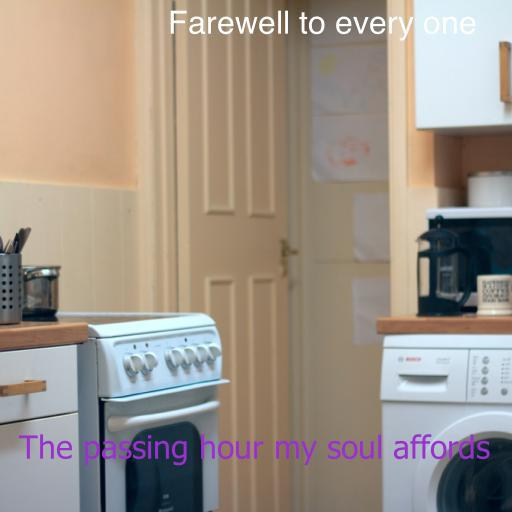SignPainter: (167, 10, 477, 41)
Tahoma: (18, 434, 490, 466)
